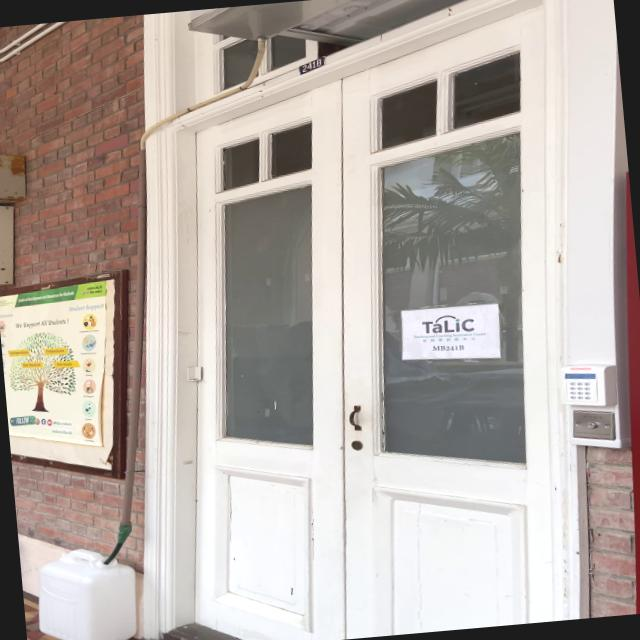room241b: (294, 56, 328, 76)
